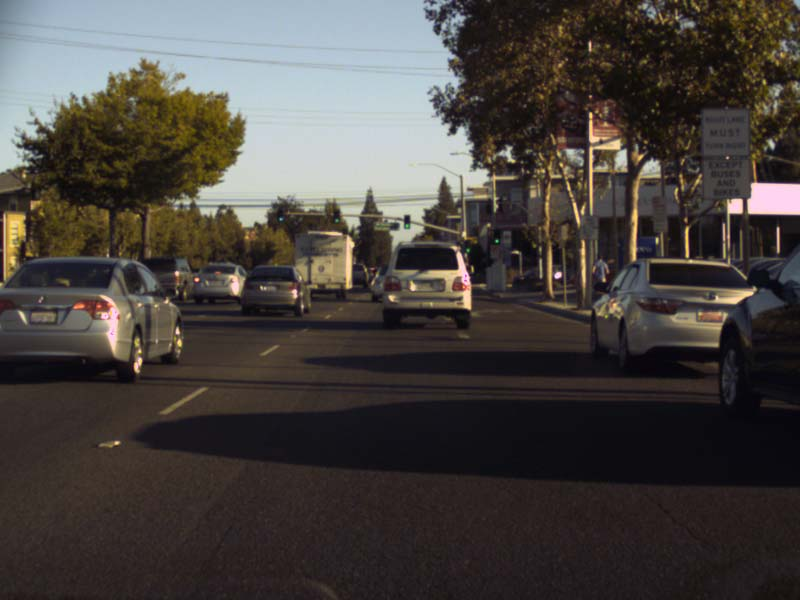Green: (492, 227, 502, 246), (403, 213, 410, 229), (332, 208, 339, 222), (464, 240, 471, 253), (278, 208, 284, 223)
